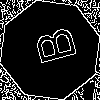B: (25, 25, 78, 69)
